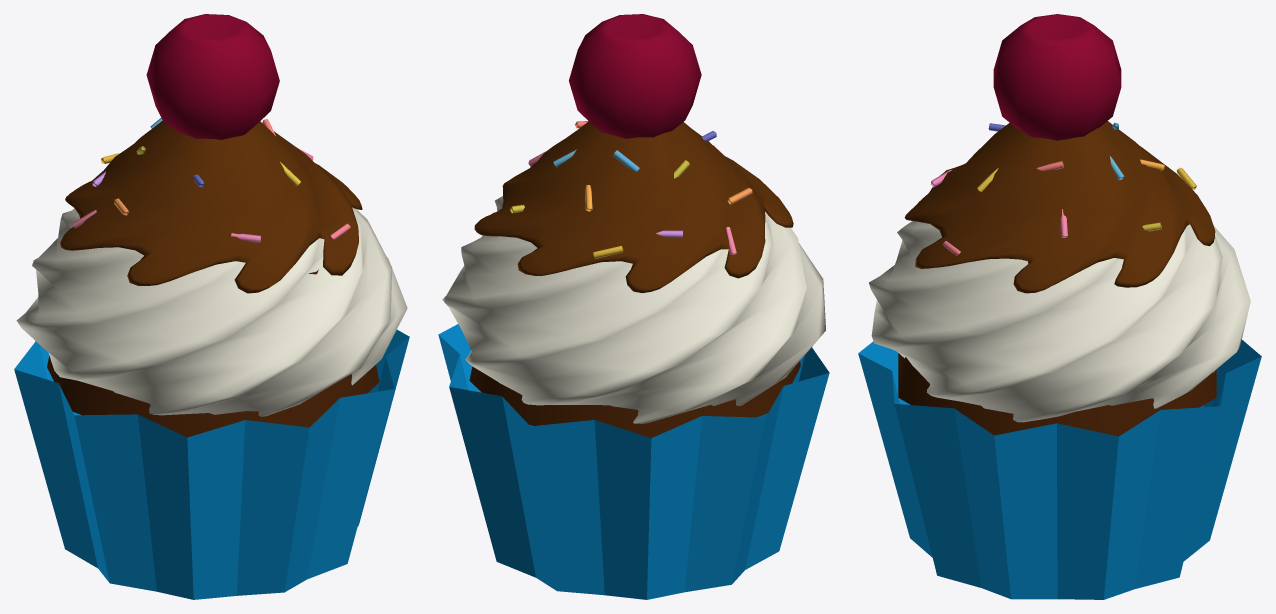
File: Blue_Cupcake_v01.fbx
3 views of the same model, side by side, from view 1: azimuth 30°, elevation 25°; view 2: azimuth 150°, elevation 25°; view 3: azimuth 270°, elevation 25° (orthographic).
Parts seen in each view (by area): view 1: Cupcake_Case_02, Frosting_02, Chocolate_icing_01, Cherry_01, Blue_Cake_01; view 2: Cupcake_Case_02, Frosting_02, Chocolate_icing_01, Cherry_01, Blue_Cake_01; view 3: Cupcake_Case_02, Frosting_02, Chocolate_icing_01, Cherry_01, Blue_Cake_01.
Boxes of the visible parts, <box> form: Cupcake_Case_02: <box>14,329,409,599</box>; Frosting_02: <box>16,207,407,416</box>; Chocolate_icing_01: <box>60,120,362,293</box>; Cherry_01: <box>146,14,279,139</box>; Blue_Cake_01: <box>47,269,379,437</box>; Cupcake_Case_02: <box>438,324,829,599</box>; Frosting_02: <box>442,196,825,423</box>; Chocolate_icing_01: <box>474,121,793,293</box>; Cherry_01: <box>569,14,701,138</box>; Blue_Cake_01: <box>469,361,800,437</box>; Cupcake_Case_02: <box>858,339,1261,599</box>; Frosting_02: <box>869,221,1250,422</box>; Chocolate_icing_01: <box>904,121,1215,293</box>; Cherry_01: <box>993,14,1121,140</box>; Blue_Cake_01: <box>898,353,1216,436</box>.
Bounding box in the file's own units: 14833 × 21927 × 15507.
